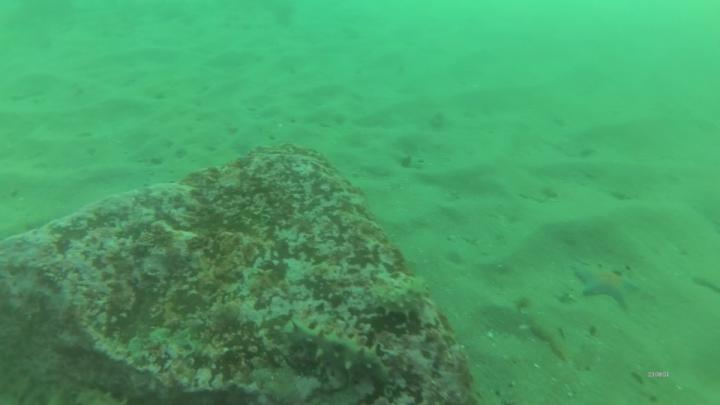holothurian: (284, 318, 392, 388), (361, 276, 433, 321)
starfish: (576, 267, 643, 311)
